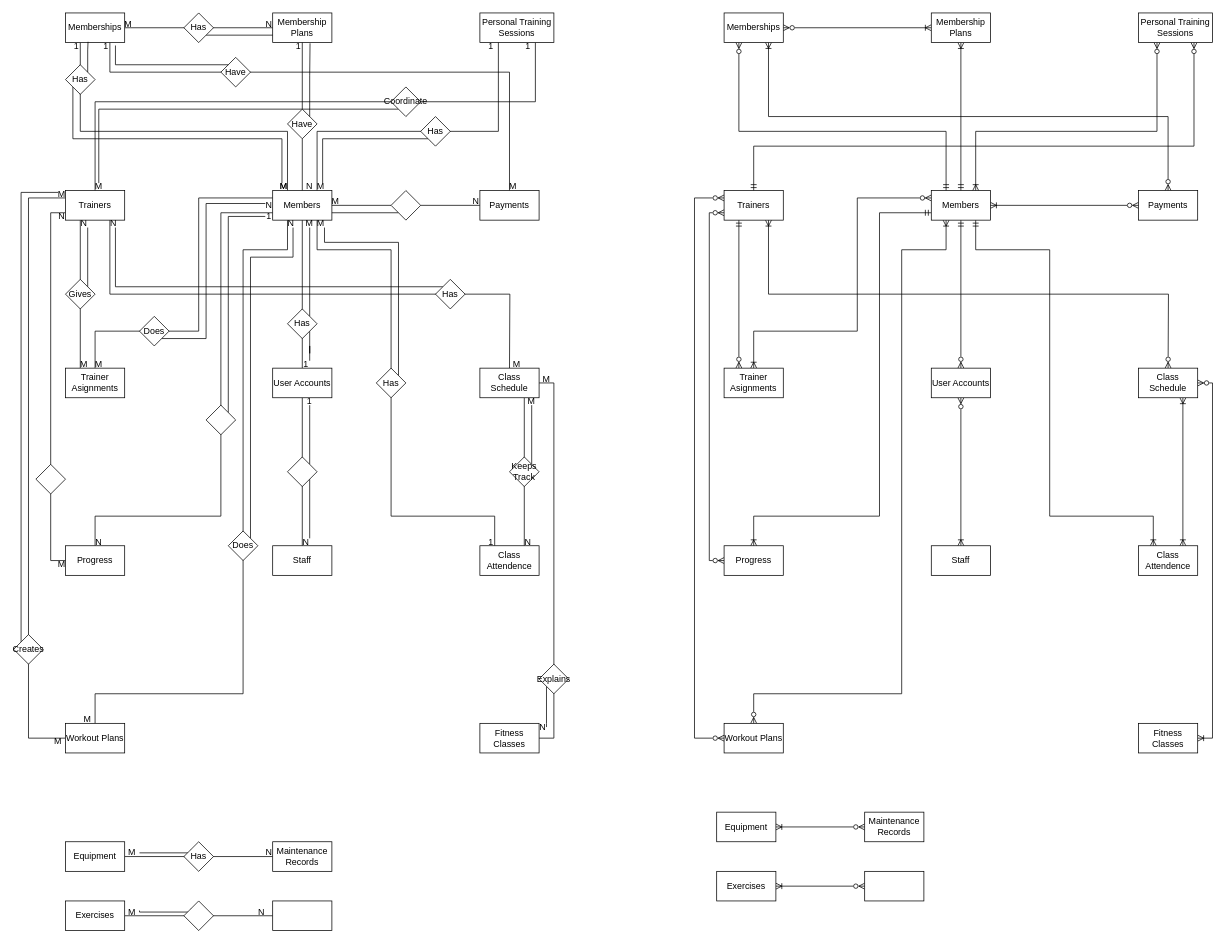
The diagram is 1232 pixels wide and 944 high, and some of its shapes have lost their labels. The shapes that lost their labels are listed below. From the top down, each one's centre as x and y in pixels, then its label:
At point 405,205: "Pays".
At point 220,419: "Makes".
At point 50,479: "Tracks".
At point 302,471: "maintains".
At point 894,886: "Workout Plan Exercise".
At point 198,915: "Depicts".
At point 302,915: "Workout Plan Exercises".
